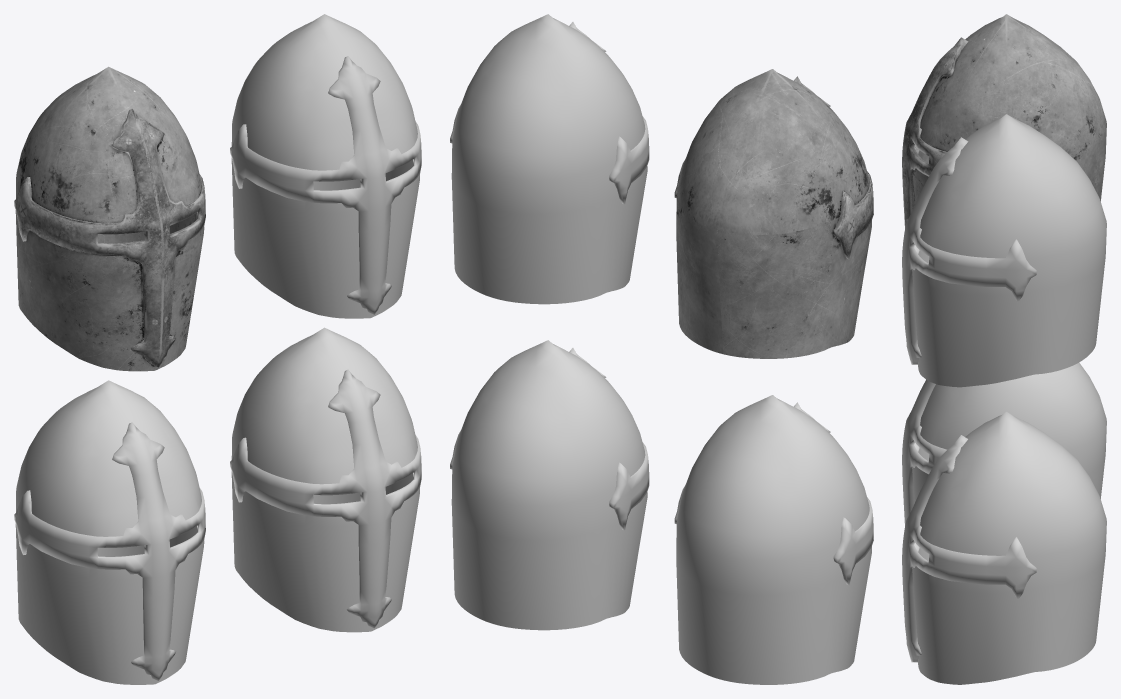
Rendered from helms 5.fbx.
The picture shows the model from 3 angles, left to right: view 1: azimuth 30°, elevation 25°; view 2: azimuth 150°, elevation 25°; view 3: azimuth 270°, elevation 25°; orthographic projection. The views are drawn at different scales.
Parts seen in each view (by area): view 1: Helm_5.001, Helm_5.002, Helm_5, Helm_5.003; view 2: Helm_5.003, Helm_5, Helm_5.002, Helm_5.001; view 3: Helm_5.002, Helm_5.001, Helm_5, Helm_5.003.
Boxes of the visible parts, <box> form: Helm_5.001: <box>230,14,421,318</box>; Helm_5.002: <box>230,327,421,632</box>; Helm_5: <box>14,66,205,371</box>; Helm_5.003: <box>14,380,205,684</box>; Helm_5.003: <box>674,395,873,684</box>; Helm_5: <box>674,69,873,358</box>; Helm_5.002: <box>450,340,649,630</box>; Helm_5.001: <box>450,14,649,304</box>; Helm_5.002: <box>902,411,1106,684</box>; Helm_5.001: <box>902,114,1106,387</box>; Helm_5: <box>902,14,1106,228</box>; Helm_5.003: <box>902,362,1106,525</box>.
Size of the model in its own units: 2923 by 4310 by 1445.
